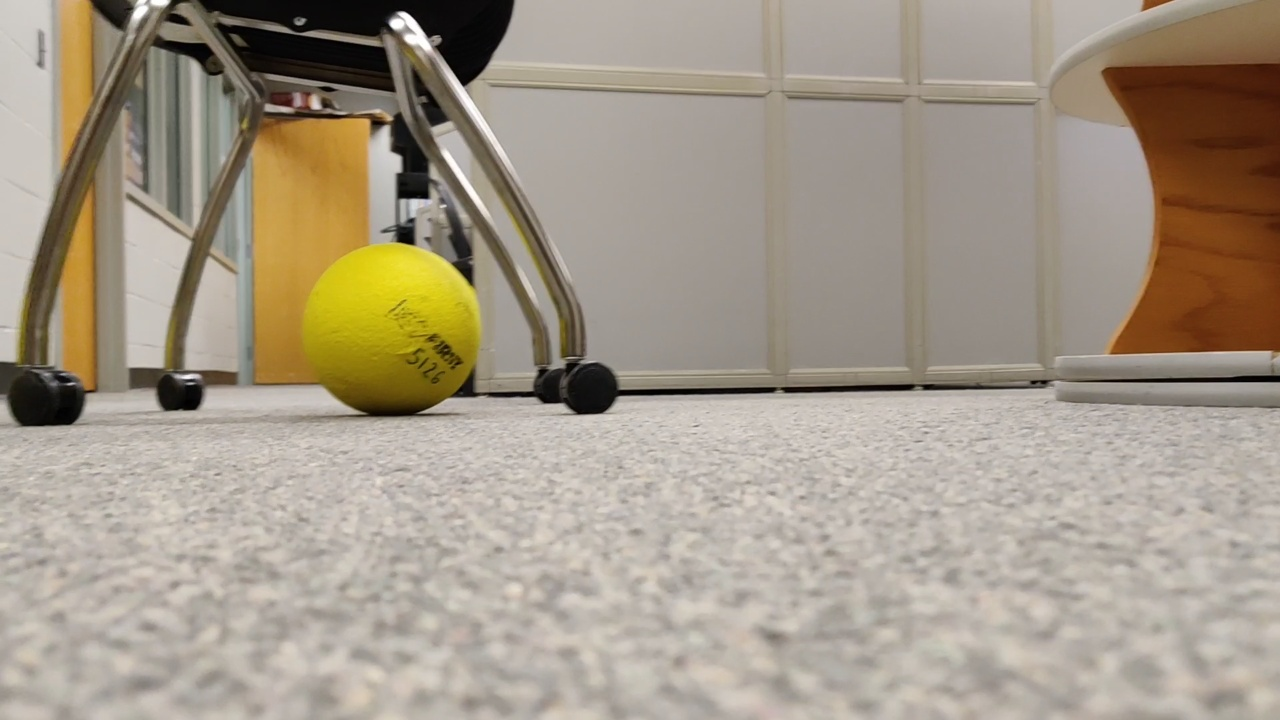Ball: (309, 245, 485, 412)
